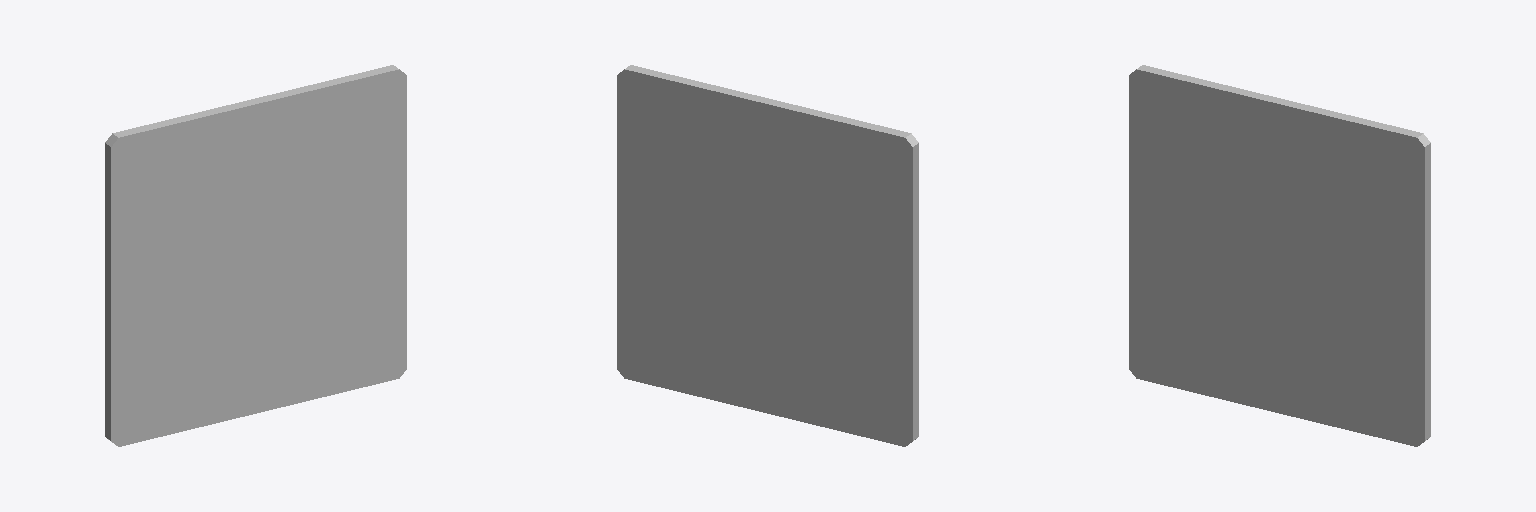
File: schild hinweis.obj
3 views of the same model, side by side, from view 1: azimuth 30°, elevation 25°; view 2: azimuth 150°, elevation 25°; view 3: azimuth 330°, elevation 25° (orthographic).
Bounding box in the file's own units: 0.5777 × 0.5777 × 0.0209.